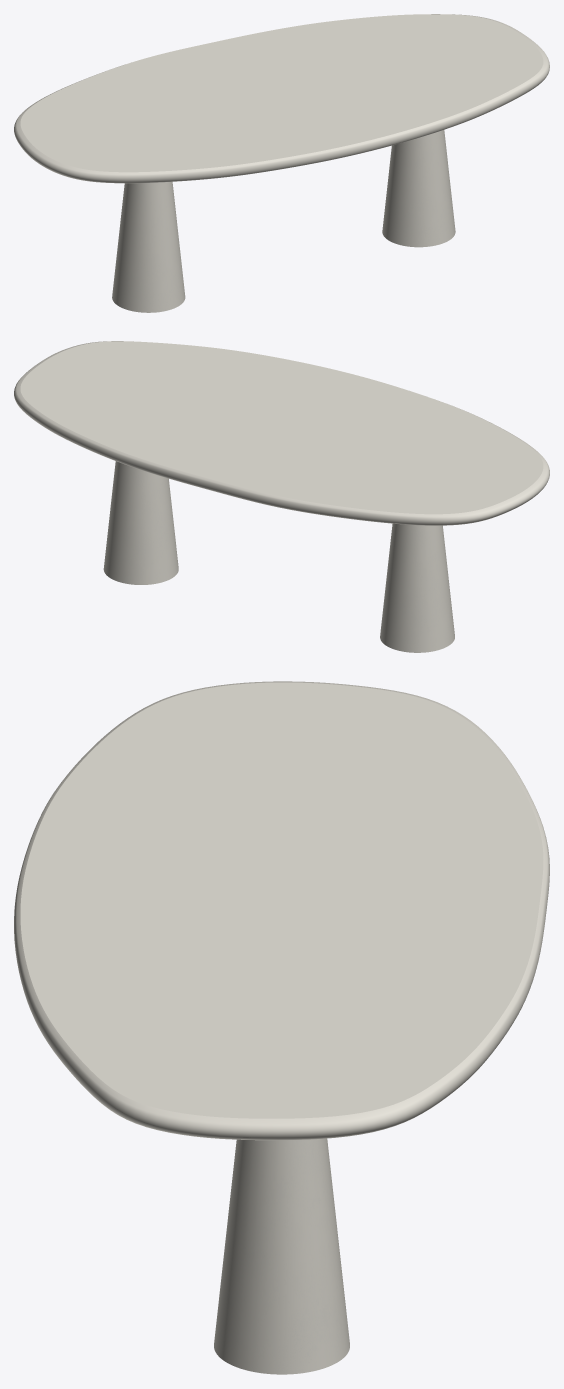
The model's file is pale_danish_round_pebble.glb.
The picture shows the model from 3 angles, top to bottom: view 1: azimuth 30°, elevation 25°; view 2: azimuth 150°, elevation 25°; view 3: azimuth 270°, elevation 25°; orthographic projection. The views are drawn at different scales.
Parts seen in each view (by area): view 1: round_danish, pebble; view 2: round_danish, pebble; view 3: round_danish, pebble.
Part boxes in pixels (x1,y1,x2,y2): round_danish: (14, 14, 549, 183); pebble: (112, 130, 455, 312); round_danish: (14, 341, 549, 525); pebble: (103, 461, 454, 652); round_danish: (14, 681, 549, 1140); pebble: (214, 1138, 349, 1374).
Bounding box in the file's own units: 7.5 × 2.5 × 3.8.
Materials: 1 (1 with a texture image).
